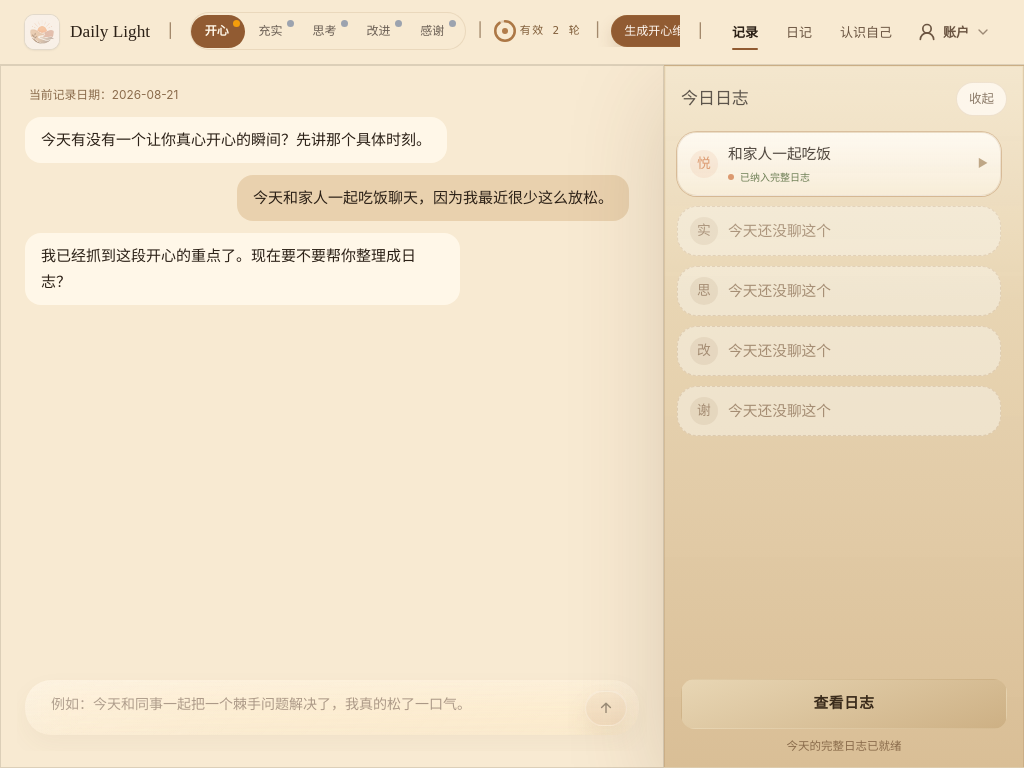
Scenario: InterviewShell › switches the main workspace to the daily journal from the top log button
Expected: the text "有效 2 轮" is shown, [520,22,581,40]
Click the button with aria-label "查看完整日志" at (844, 704), box [681,679,1007,728]
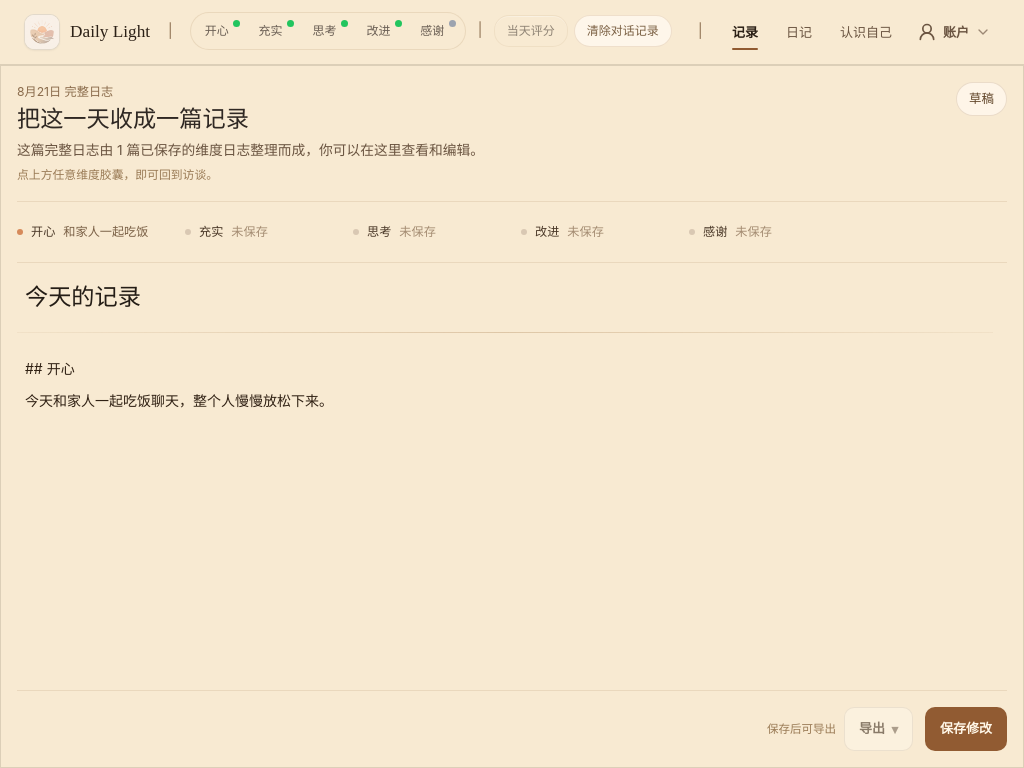
Now the element with test id "daily-journal-workspace" is shown
Now the element with test id "daily-journal-editor" is shown, box [17,279,993,674]
Now the field showing "今天的记录" is shown, box [17,279,993,332]
